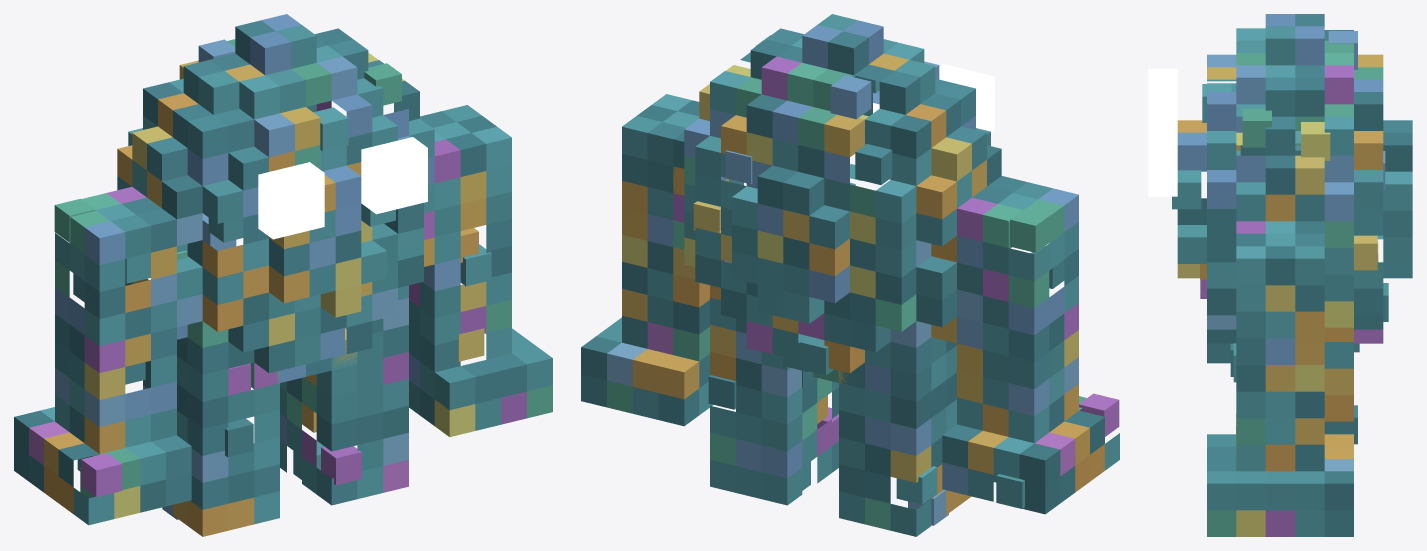
Rendered from glitch.glb.
The picture shows the model from 3 angles, left to right: view 1: azimuth 30°, elevation 25°; view 2: azimuth 150°, elevation 25°; view 3: azimuth 270°, elevation 25°; orthographic projection.
Parts seen in each view (by area): view 1: body, armR, armL, legL, legR, eyes; view 2: body, armR, armL, legR, legL, eyes; view 3: body, armL, eyes, legL, armR.
Boxes of the visible parts, left/top/right/bottom form: body: left=117, top=14, right=434, bottom=388; armR: left=14, top=187, right=191, bottom=525; armL: left=409, top=105, right=552, bottom=436; legL: left=280, top=325, right=408, bottom=505; legR: left=143, top=356, right=279, bottom=536; eyes: left=258, top=137, right=427, bottom=239; body: left=673, top=14, right=1011, bottom=384; armR: left=942, top=176, right=1119, bottom=514; armL: left=581, top=94, right=743, bottom=426; legR: left=839, top=345, right=971, bottom=536; legL: left=708, top=324, right=838, bottom=505; eyes: left=873, top=64, right=994, bottom=132; body: left=1172, top=14, right=1412, bottom=368; armL: left=1207, top=221, right=1353, bottom=536; eyes: left=1148, top=69, right=1177, bottom=196; legL: left=1324, top=368, right=1357, bottom=444; armR: left=1200, top=145, right=1240, bottom=363.
Size of the model in its own units: 5.4 by 5.13 by 2.7.
